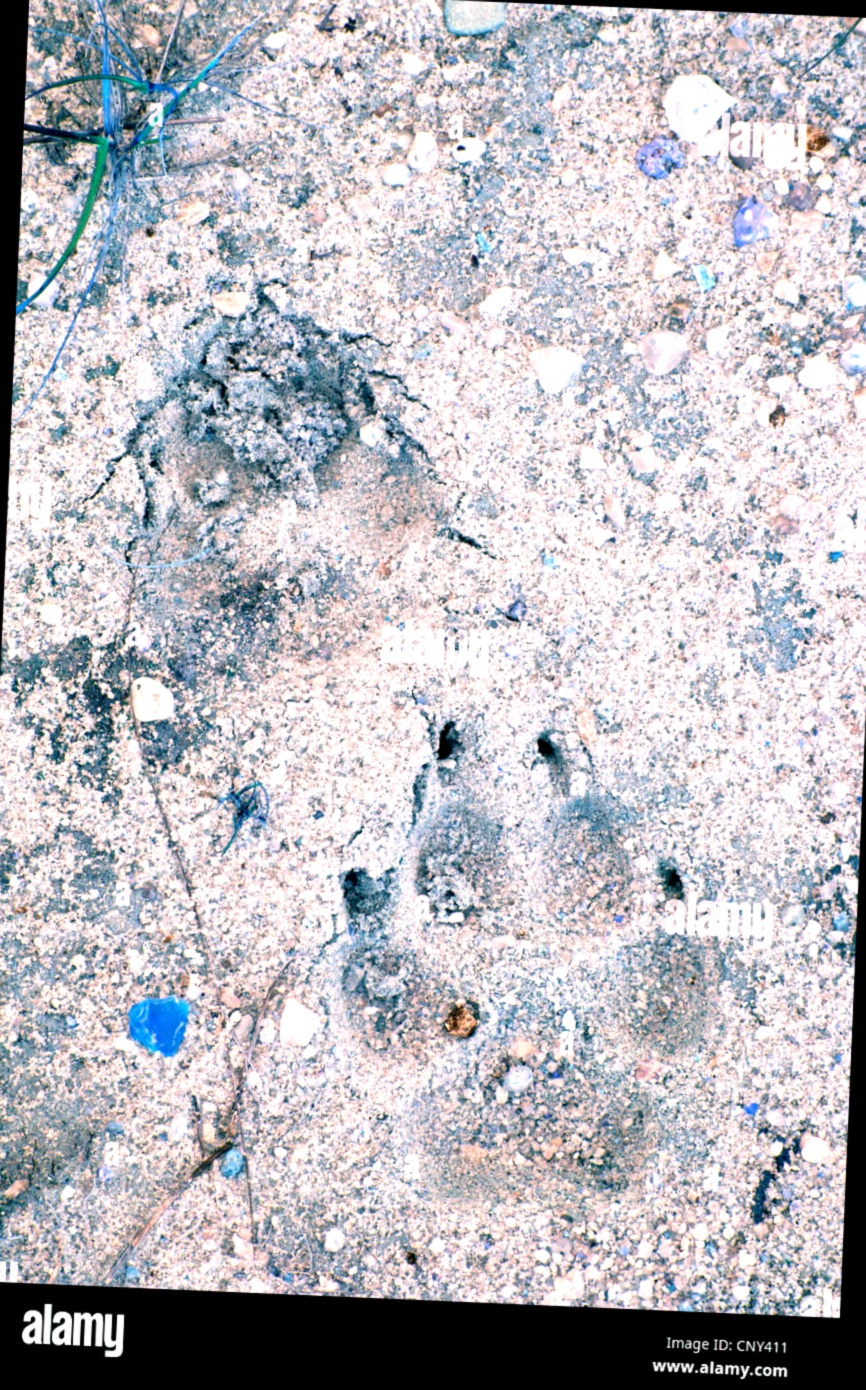loup: (288, 669, 752, 1258)
